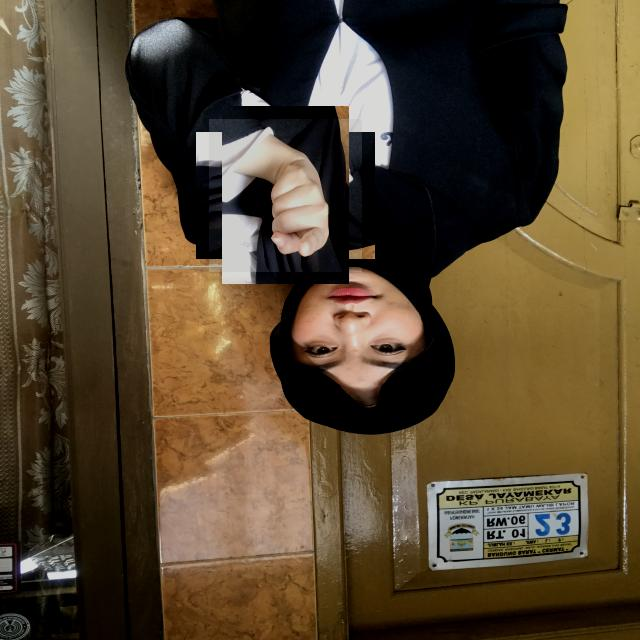kamu: (209, 119, 362, 272)
